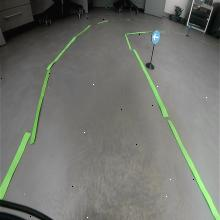left: (152, 30, 160, 43)
